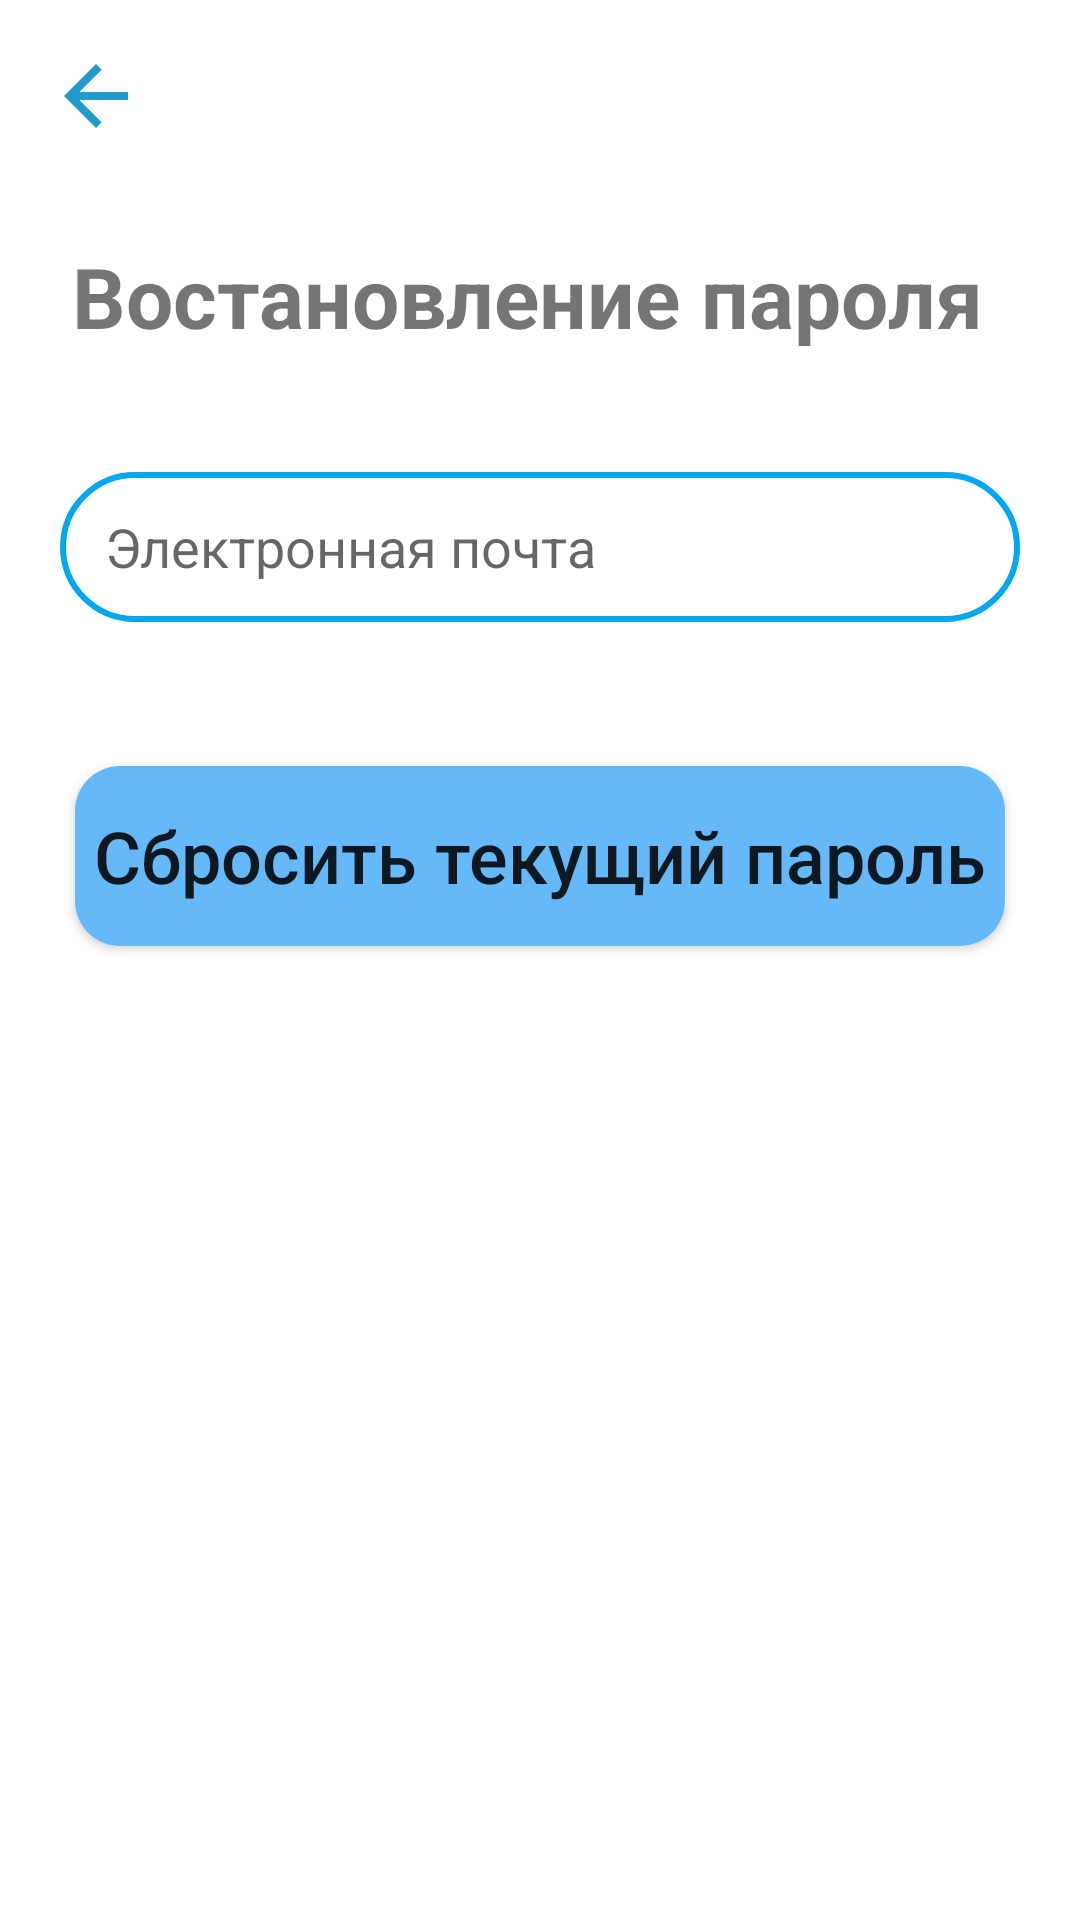

Icon click points for this 1080px x 1920px phone screenshot, format (x=x, y=y):
back: (x=96, y=96)
